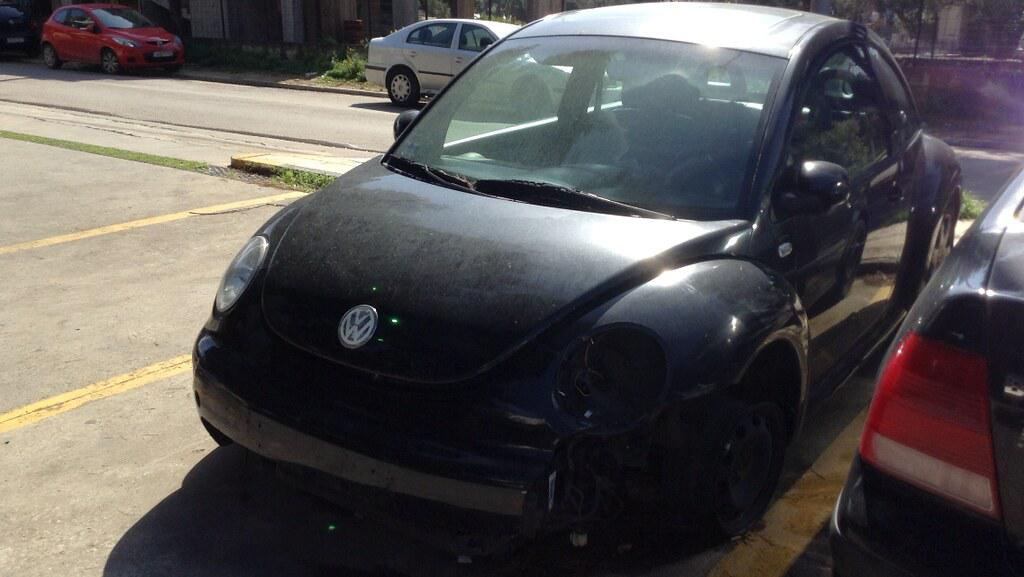Headlight-Damage: (523, 284, 688, 431)
front-bumper-dent: (418, 400, 670, 568)
